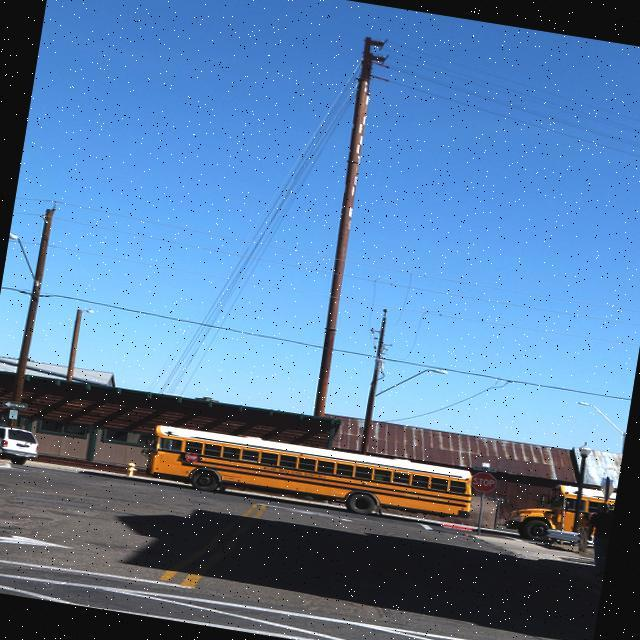fire_hydrant: (124, 461, 138, 477)
